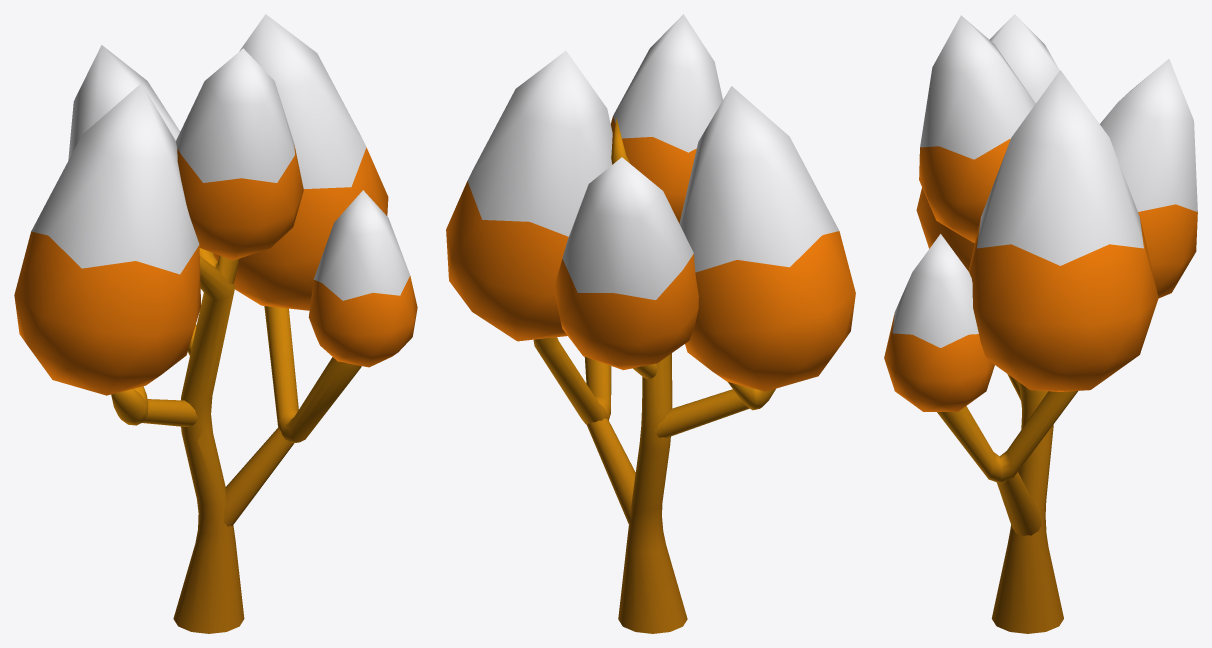
File: Tree_04_snow.fbx
3 views of the same model, side by side, from view 1: azimuth 30°, elevation 25°; view 2: azimuth 150°, elevation 25°; view 3: azimuth 270°, elevation 25° (orthographic). The views are drawn at different scales.
Parts seen in each view (by area): view 1: Tree_04_snow; view 2: Tree_04_snow; view 3: Tree_04_snow.
Part boxes in pixels (box(x1,y1,x2,y2)): Tree_04_snow: box(14, 14, 417, 633); Tree_04_snow: box(446, 14, 855, 633); Tree_04_snow: box(884, 14, 1197, 633).
Size of the model in its own units: 247 by 179 by 381.
